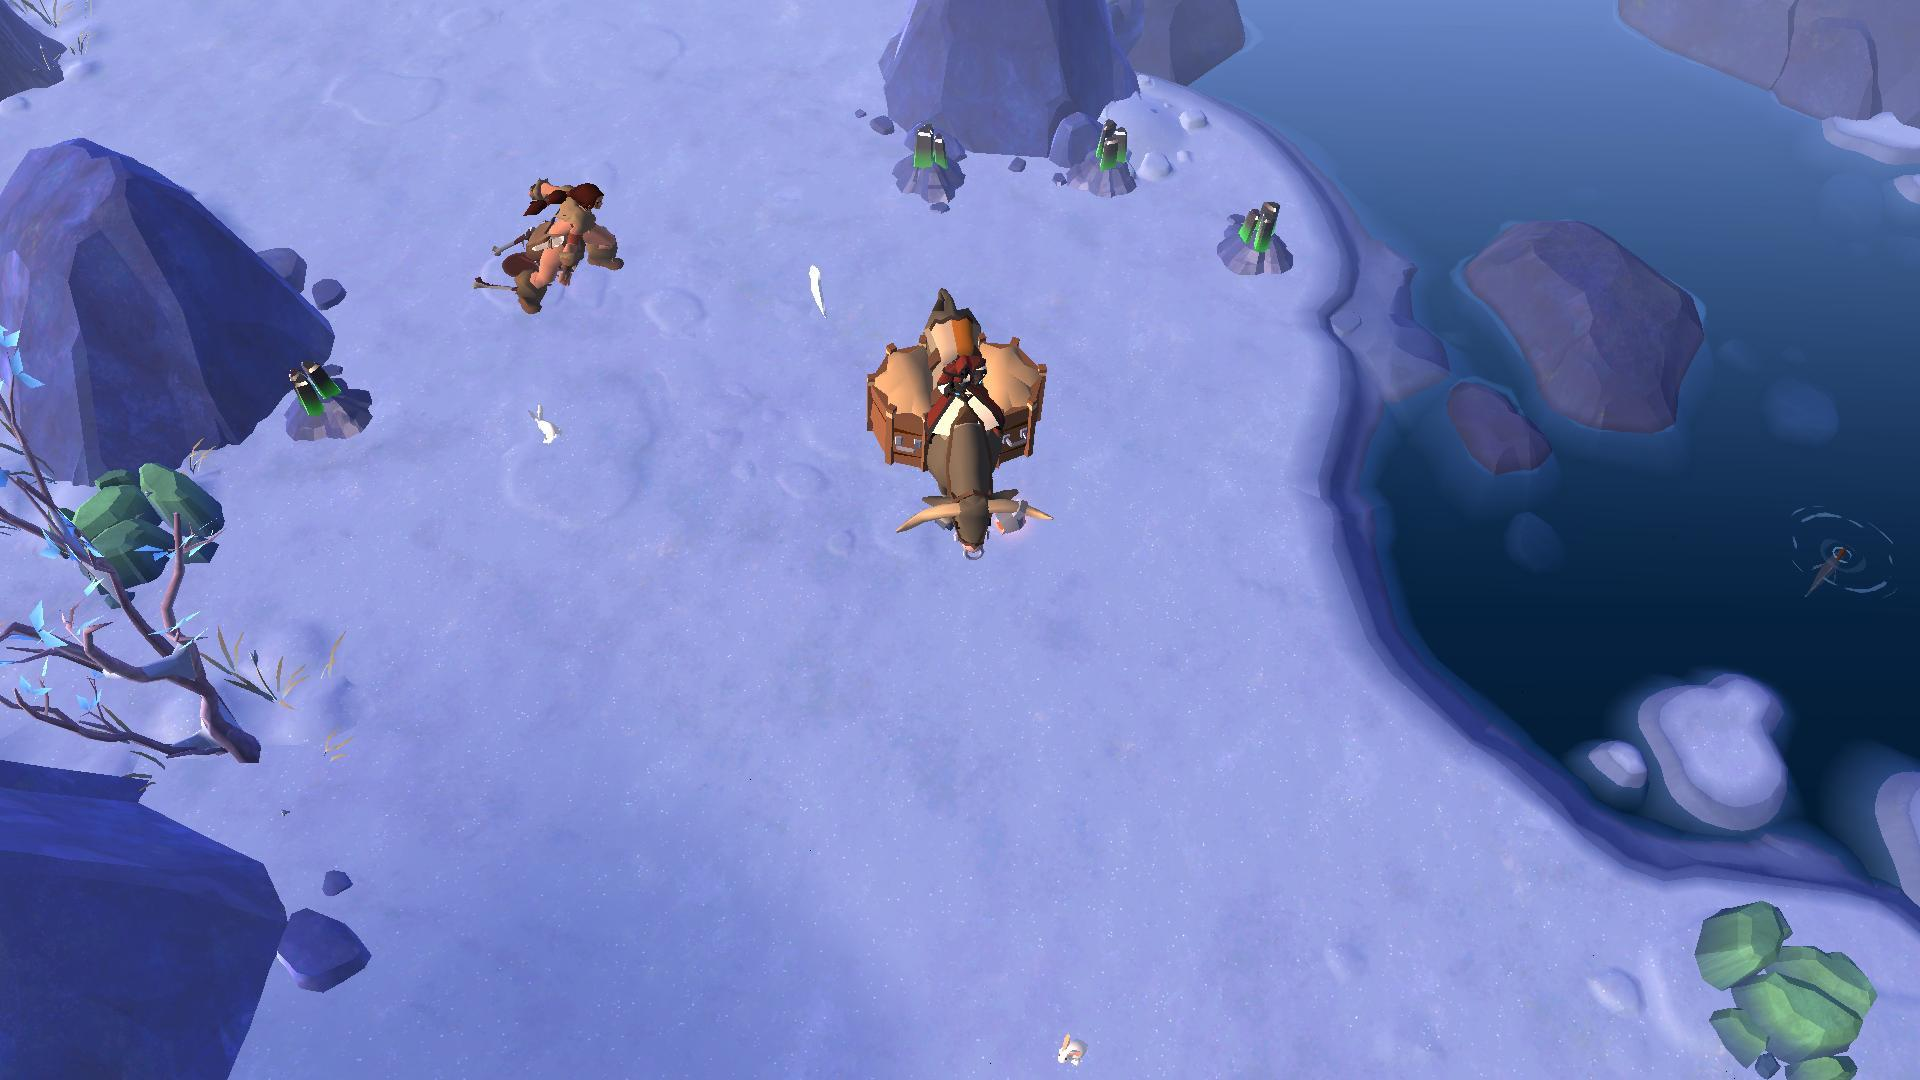enemy_factionKeeper: (487, 165, 626, 320)
ore_t3: (280, 355, 343, 421), (1232, 193, 1280, 262), (898, 120, 949, 178), (1092, 113, 1130, 185)
rock_t3: (1676, 882, 1880, 1080), (54, 456, 233, 588)
